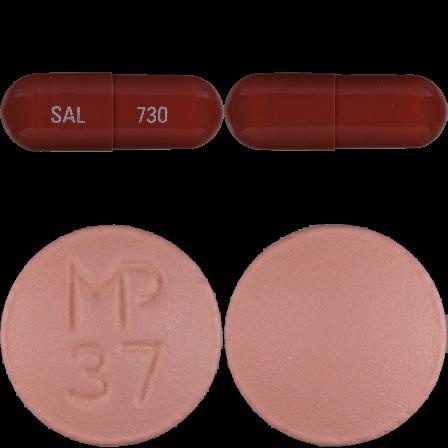47781-730: (0, 0, 224, 224)
